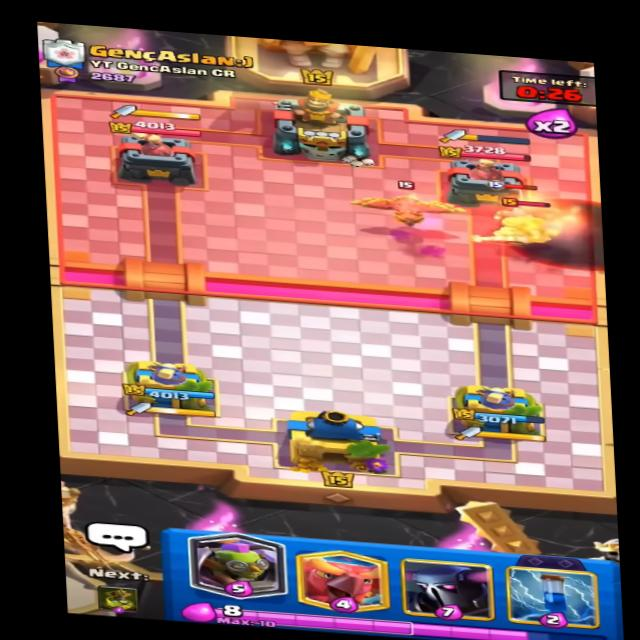Pheonix: (348, 170, 461, 227)
Prince: (460, 202, 567, 250)
